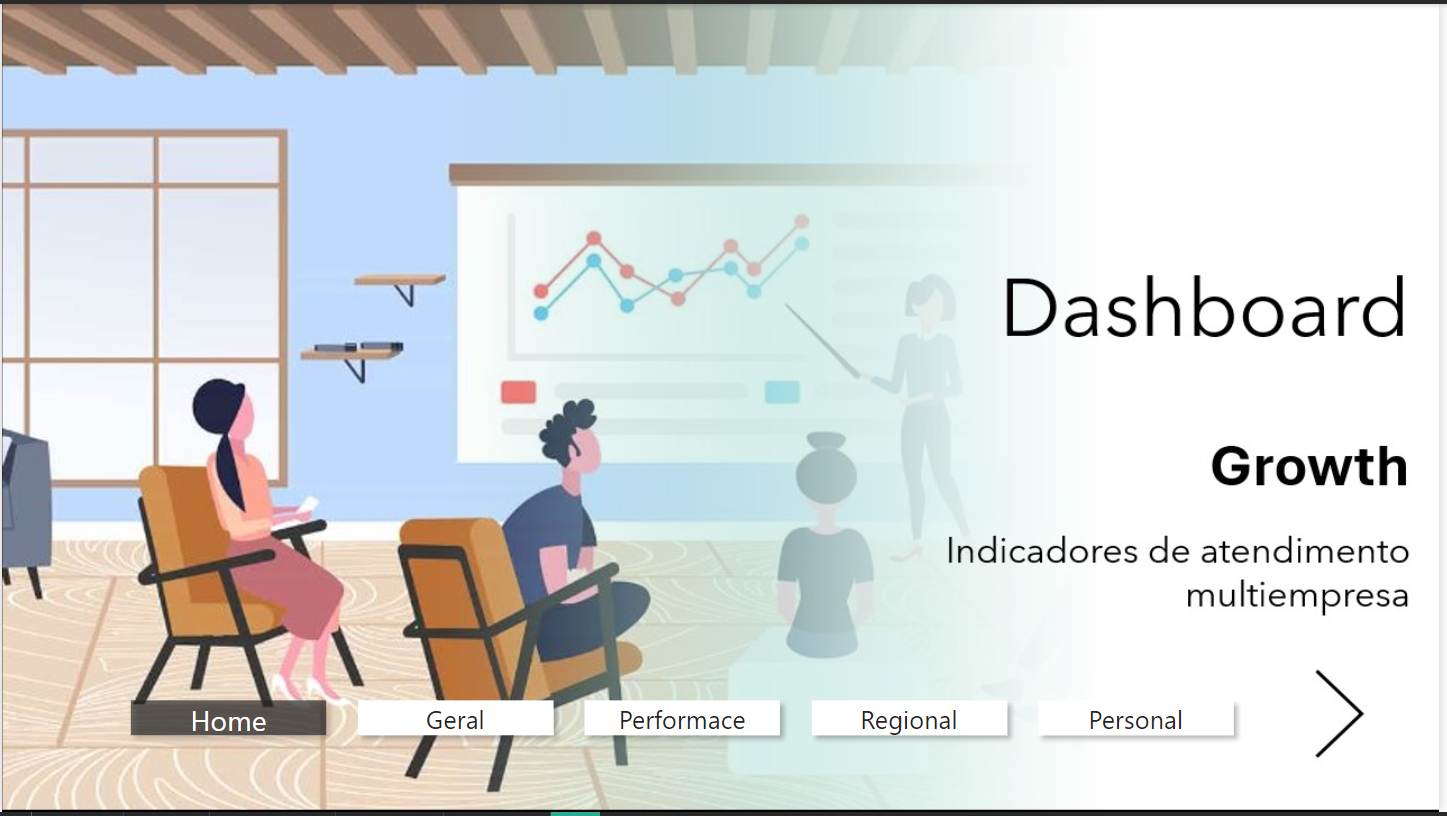

This screenshot's page, from the dashboard's own definition file:
{"tool":"powerbi","page":{"name":"Home","canvas":[1280,720],"ordinal":0},"visuals":[{"type":"pageNavigator","box":[105.7,610.6,1000.3,49.4],"z":0},{"type":"actionButton","box":[1132.1,565.4,113.9,140],"z":1000}]}

Visuals, with their boxes in screenshot pixels (x1, y1, x2, y2), scaled from the page's 1280x720 canvas onto the 1447x816 screenshot:
pageNavigator: 119,692,1250,748
actionButton: 1280,641,1409,799
